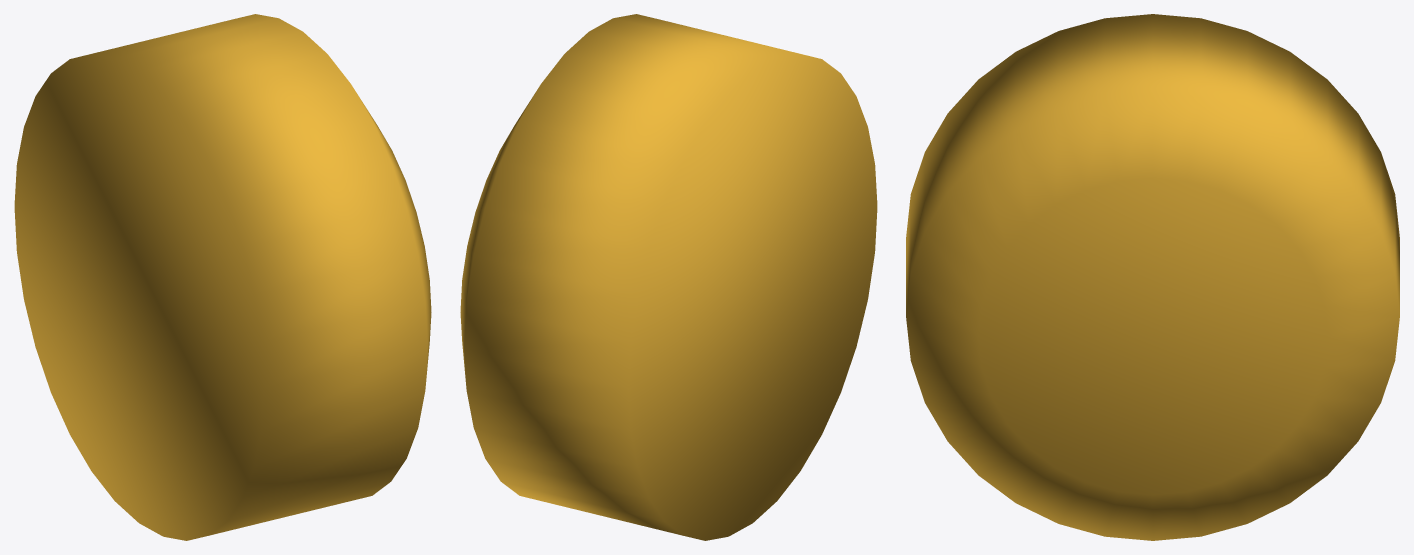
File: DoorKnob.fbx
3 views of the same model, side by side, from view 1: azimuth 30°, elevation 25°; view 2: azimuth 150°, elevation 25°; view 3: azimuth 270°, elevation 25° (orthographic).
Visible parts, largest first — view 1: DoorKnob; view 2: DoorKnob; view 3: DoorKnob.
Boxes of the visible parts, x1,y1,x2,y2 form: DoorKnob: [14, 14, 431, 540]; DoorKnob: [460, 14, 877, 540]; DoorKnob: [906, 14, 1399, 540].
Size of the model in its own units: 4.37 by 9.22 by 9.22.
